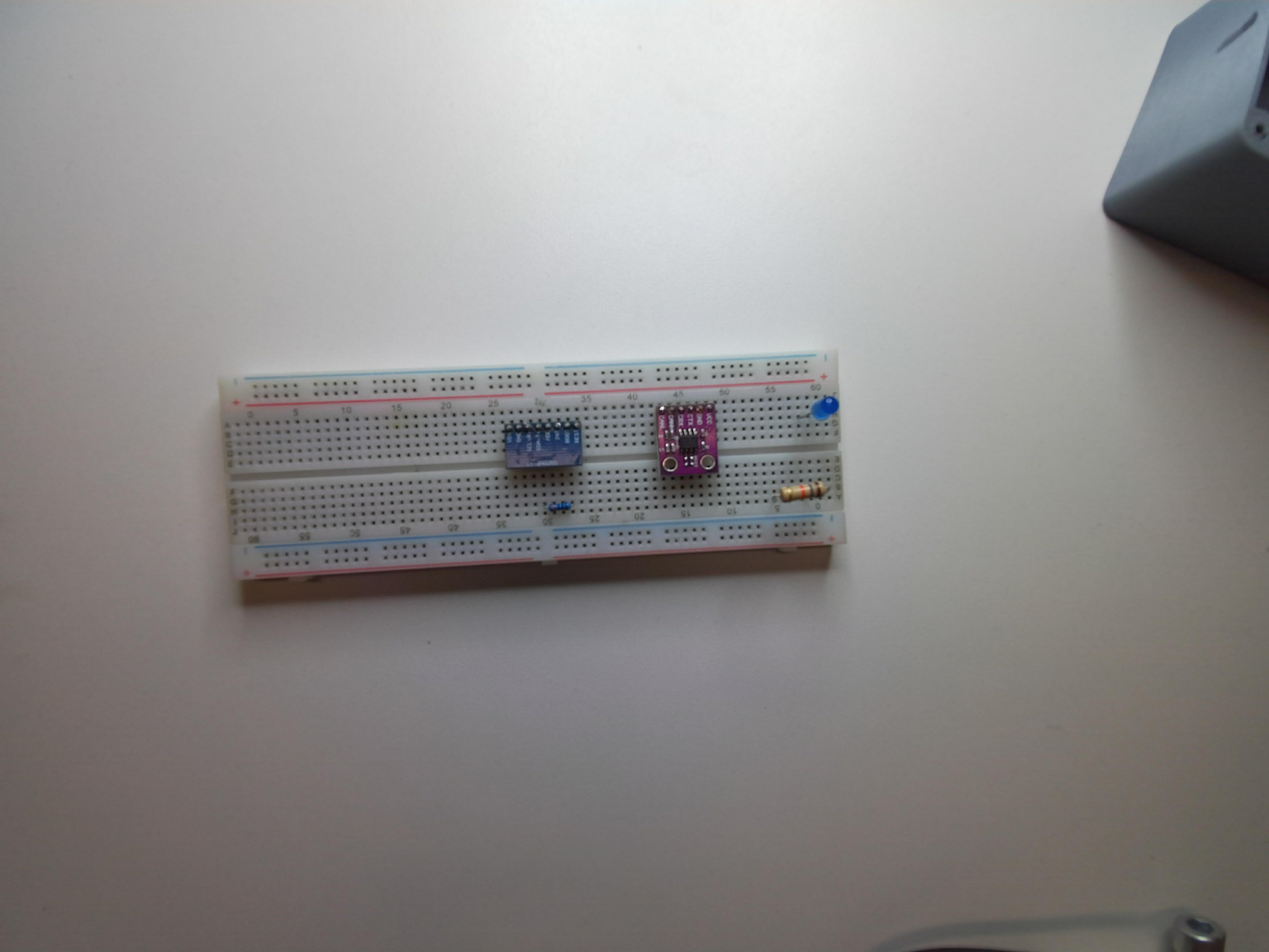base: (216, 351, 847, 601)
blue-board: (502, 417, 586, 469)
blue-led: (809, 389, 841, 429)
purple-board: (654, 402, 720, 492)
resistor-big: (780, 480, 827, 503)
resistor-small: (547, 499, 573, 513)
